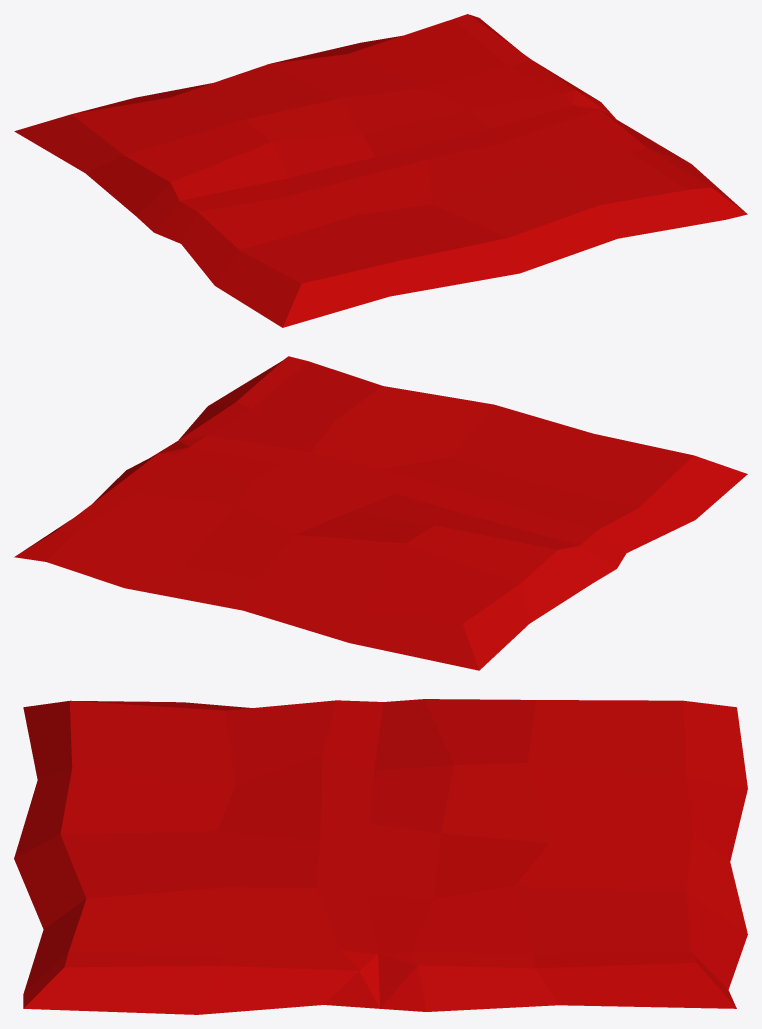
The model's file is RedCrystal.fbx.
The picture shows the model from 3 angles, top to bottom: view 1: azimuth 30°, elevation 25°; view 2: azimuth 150°, elevation 25°; view 3: azimuth 270°, elevation 25°; orthographic projection. The views are drawn at different scales.
Visible parts, largest first — view 1: Cube; view 2: Cube; view 3: Cube.
Boxes of the visible parts, x1,y1,x2,y2 form: Cube: (14,14,747,327); Cube: (14,356,747,670); Cube: (14,699,747,1014).
Size of the model in its own units: 156 by 10 by 154.
